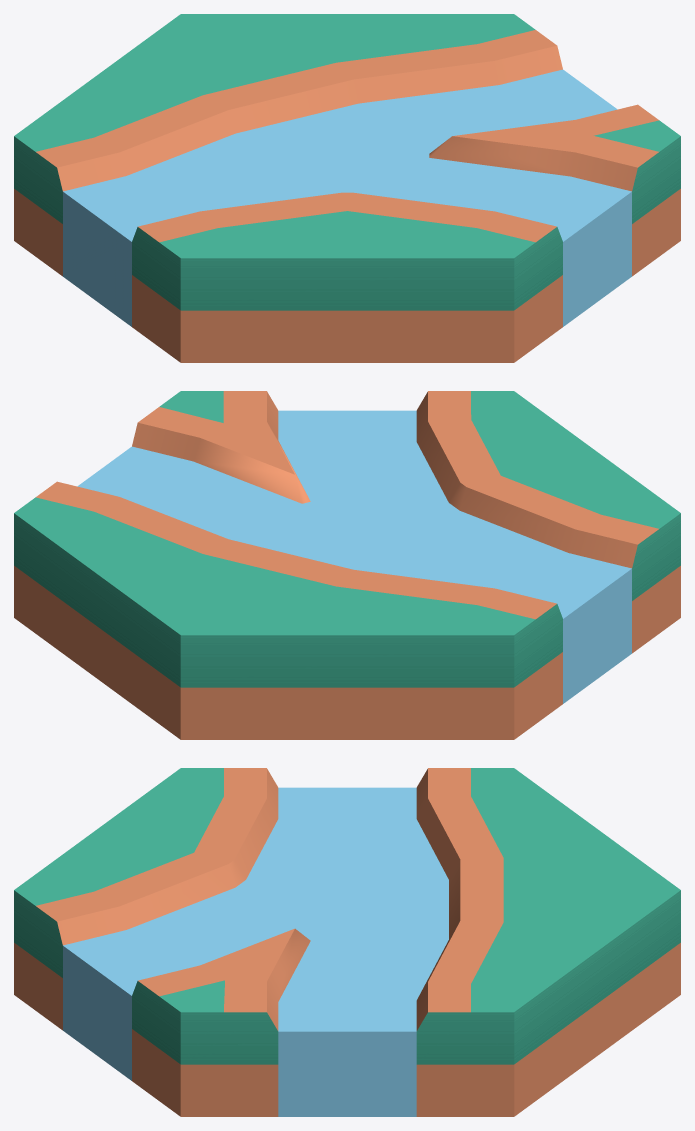
Rendered from river-intersectionC.glb.
3 renders of one model, top to bottom at view 1: azimuth 30°, elevation 25°; view 2: azimuth 150°, elevation 25°; view 3: azimuth 270°, elevation 25°, orthographic.
Visible parts, largest first — view 1: river-intersectionC; view 2: river-intersectionC; view 3: river-intersectionC.
Boxes of the visible parts, x1=… form: river-intersectionC: x1=14, y1=14, x2=680, y2=362; river-intersectionC: x1=14, y1=391, x2=680, y2=739; river-intersectionC: x1=14, y1=768, x2=680, y2=1116.
Bounding box in the file's own units: 1 × 0.2 × 1.15.
Materials: 1 (1 with a texture image).
